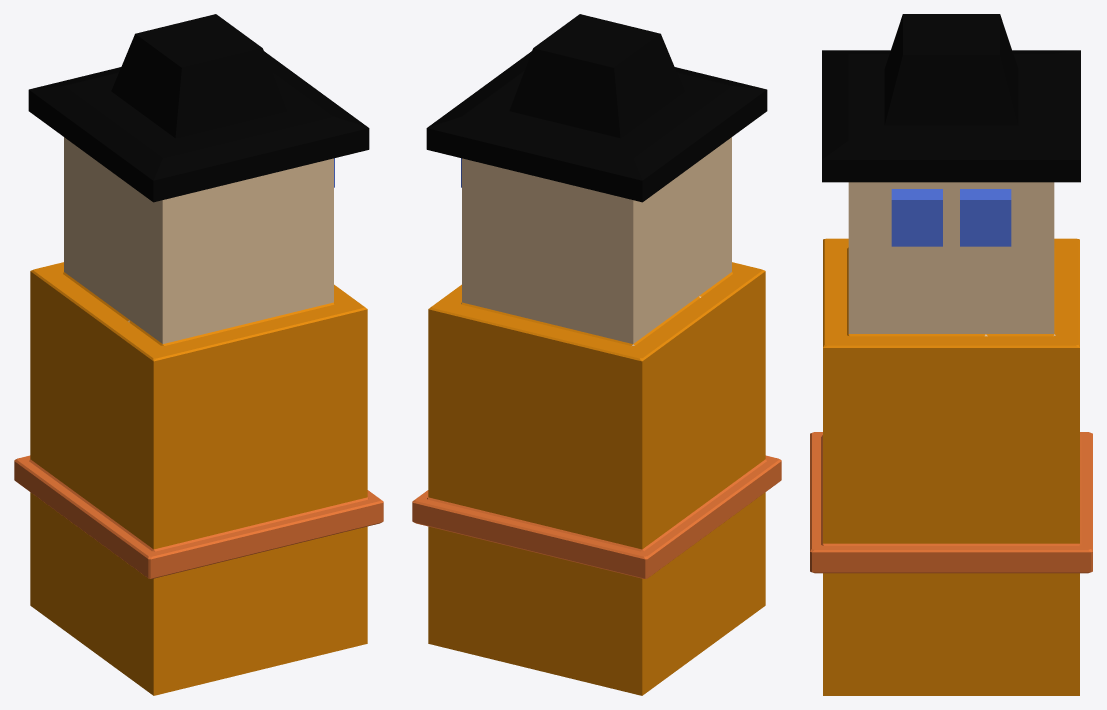
Rendered from Player.fbx.
The picture shows the model from 3 angles, left to right: view 1: azimuth 30°, elevation 25°; view 2: azimuth 150°, elevation 25°; view 3: azimuth 270°, elevation 25°; orthographic projection. The views are drawn at different scales.
Visible parts, largest first — view 1: Cube; view 2: Cube; view 3: Cube, Cube.001, Cube.002.
Part boxes in pixels (x1=…): Cube: x1=14, y1=14, x2=383, y2=695; Cube: x1=412, y1=14, x2=781, y2=695; Cube: x1=810, y1=14, x2=1092, y2=695; Cube.001: x1=891, y1=189, x2=942, y2=246; Cube.002: x1=960, y1=189, x2=1011, y2=246.
Bounding box in the file's own units: 2.2 × 5.21 × 2.2.
